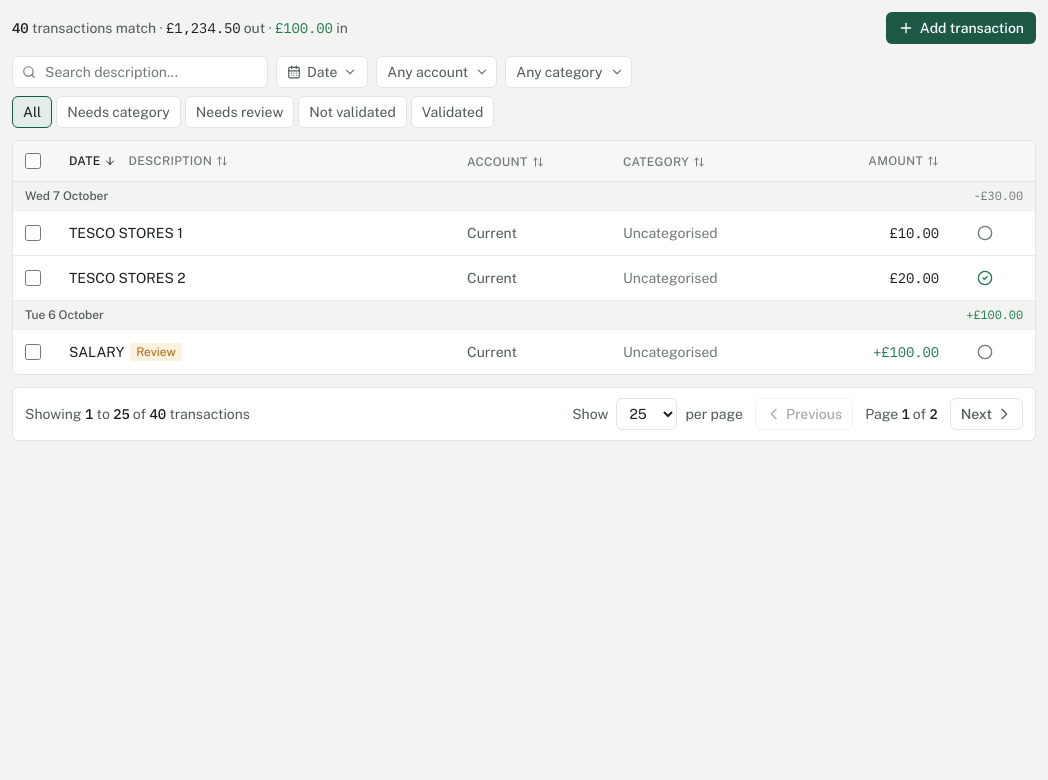
Test case: Transactions page › flags and moves rows through the bulk API
Expected: the text "SALARY" is shown, x1=69 y1=342 x2=124 y2=362
Click the checkbox named "Select SALARY".
click(33, 352)  # box x1=25 y1=344 x2=41 y2=360
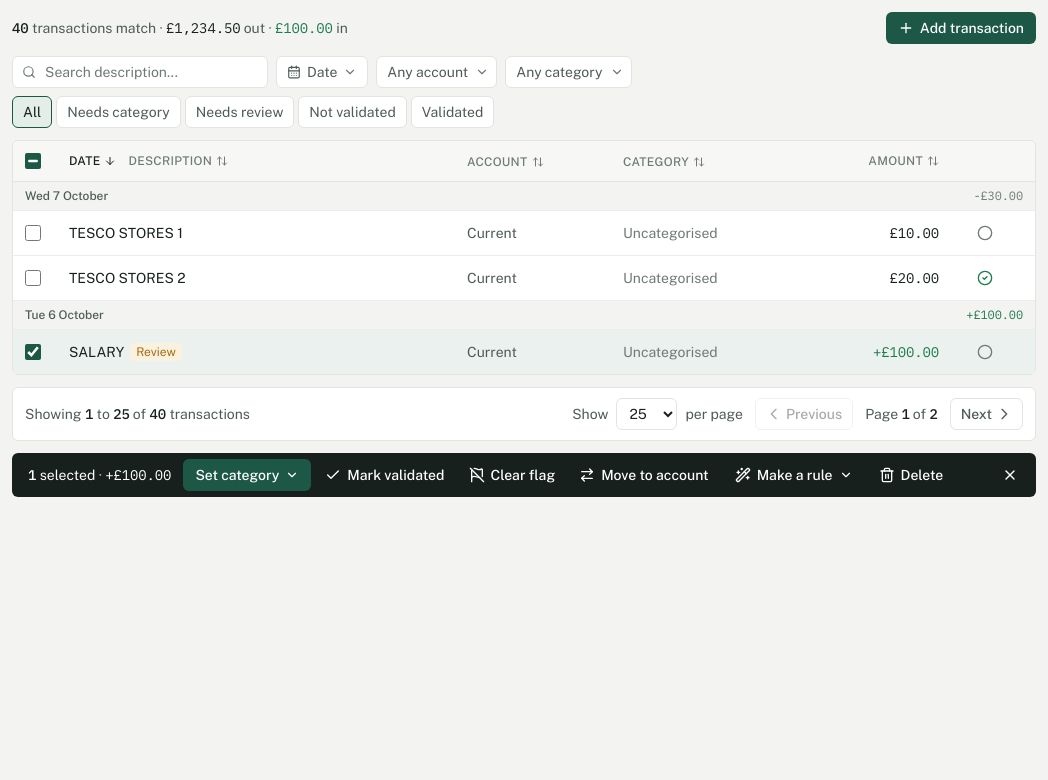
# SALARY is already flagged, so the action clears it.
Click the button "Clear flag".
click(512, 475)  # box x1=458 y1=459 x2=565 y2=491
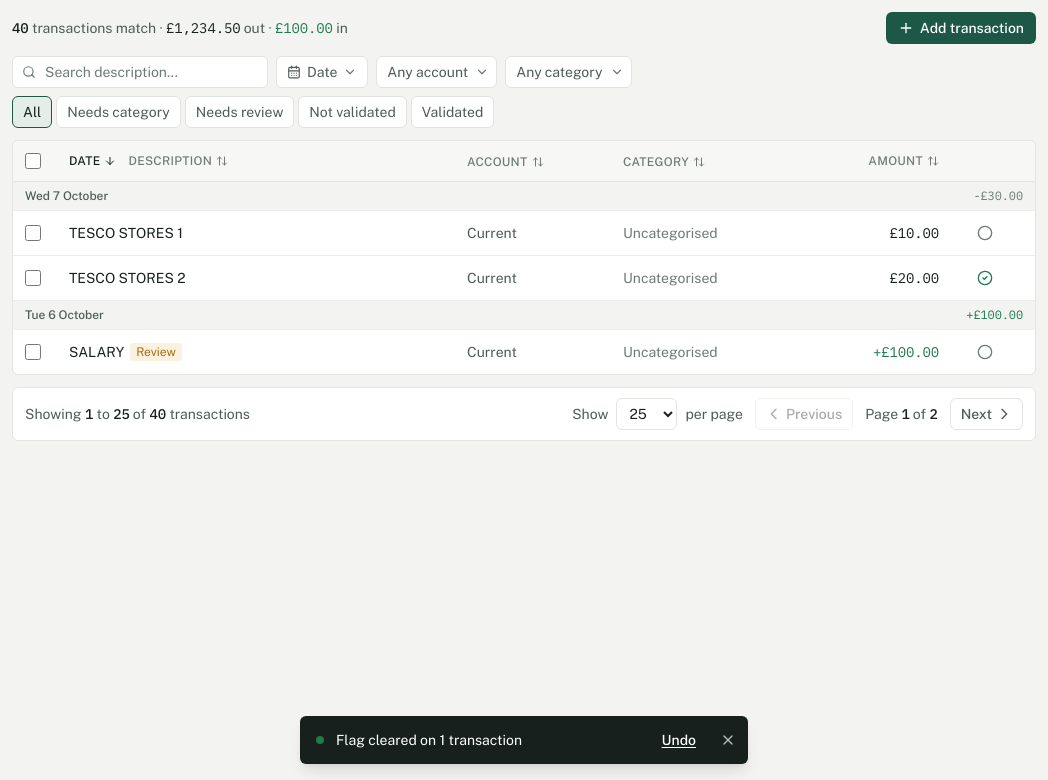
Result: the text "Flag cleared on 1 transaction" is shown at x1=336 y1=732 x2=522 y2=748
Click the checkbox named "Select SALARY".
click(33, 352)  # box x1=25 y1=344 x2=41 y2=360
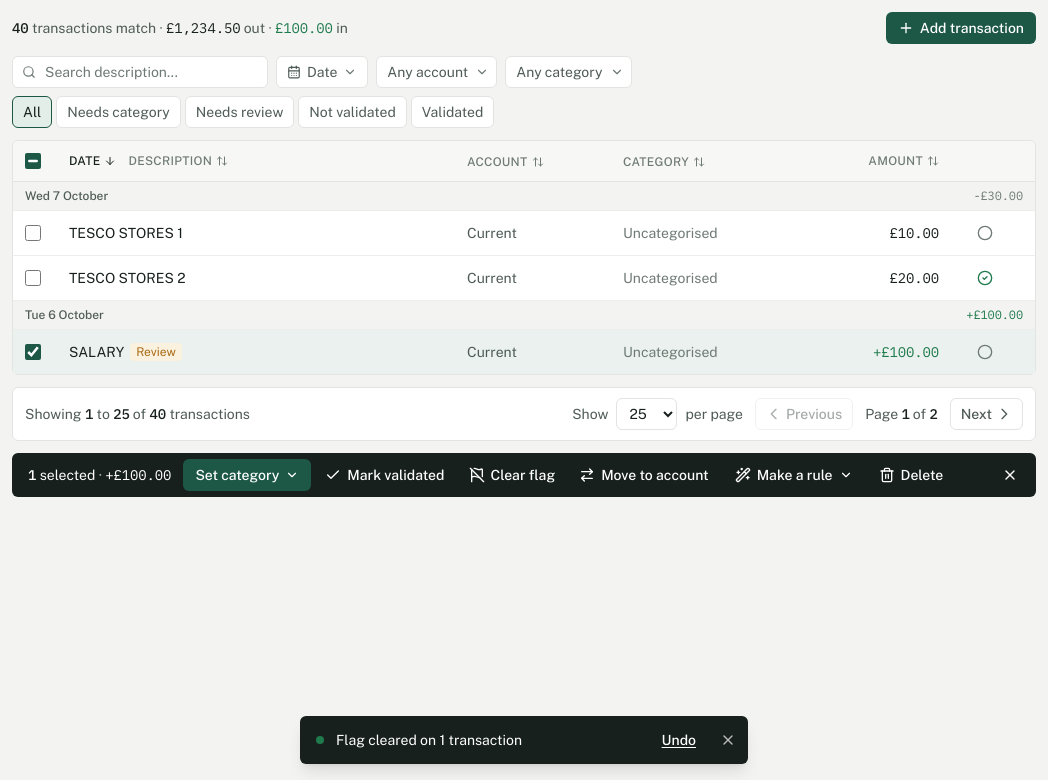
Click the button "Move to account".
click(644, 475)  # box x1=569 y1=459 x2=719 y2=491
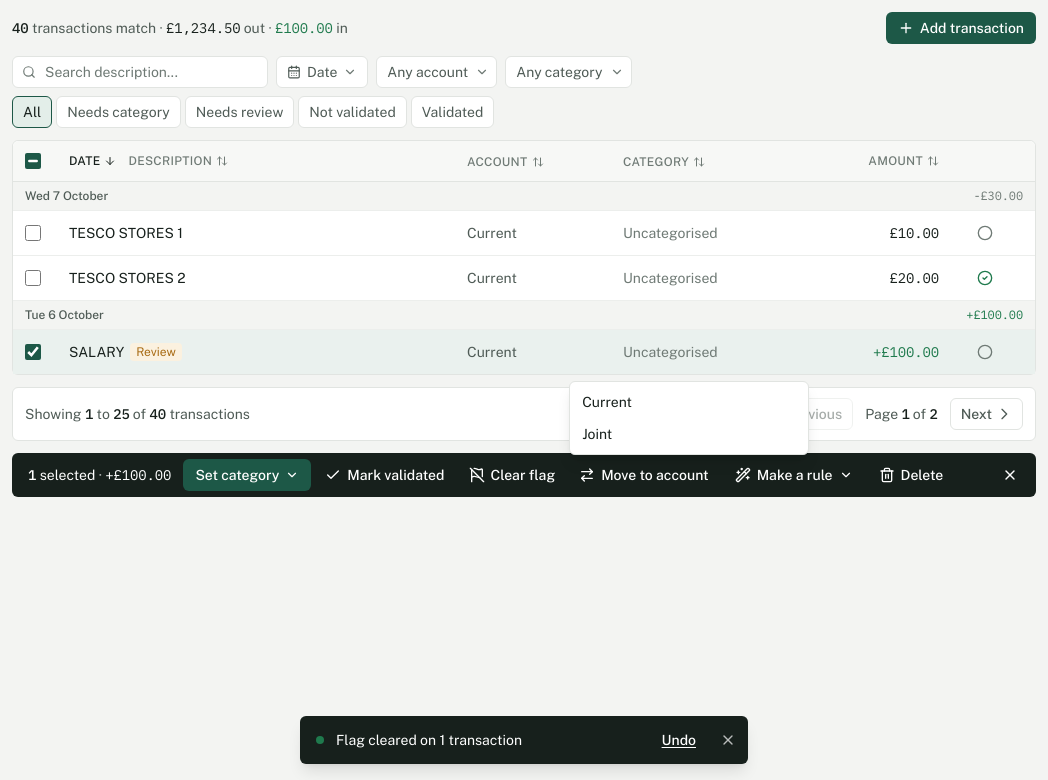
Click the menu item "Joint".
click(689, 434)  # box x1=570 y1=418 x2=808 y2=450
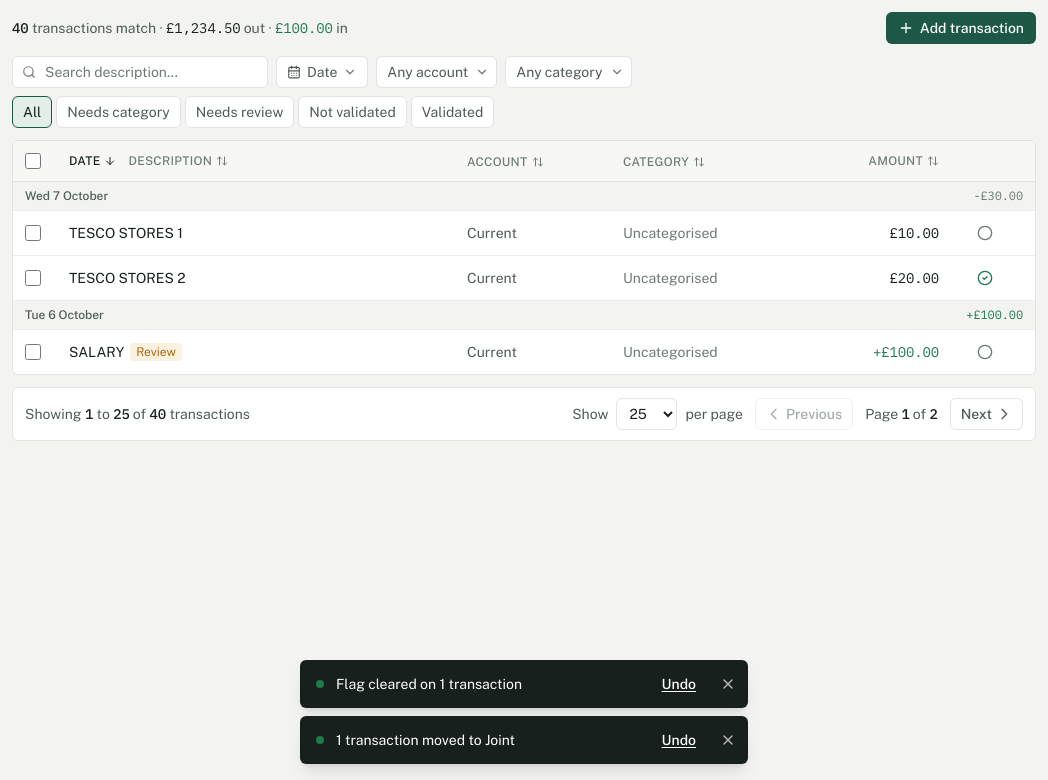
Result: the text "1 transaction moved to Joint" is shown at x1=336 y1=732 x2=515 y2=748
